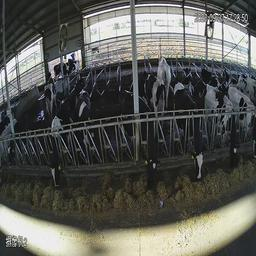cow: (118, 85, 161, 203), (174, 81, 208, 189), (206, 78, 240, 173), (43, 89, 69, 202), (74, 82, 106, 169), (229, 78, 255, 158), (137, 59, 166, 112), (153, 42, 175, 111), (37, 70, 58, 121), (176, 64, 198, 100), (55, 57, 81, 85), (201, 60, 224, 91)
